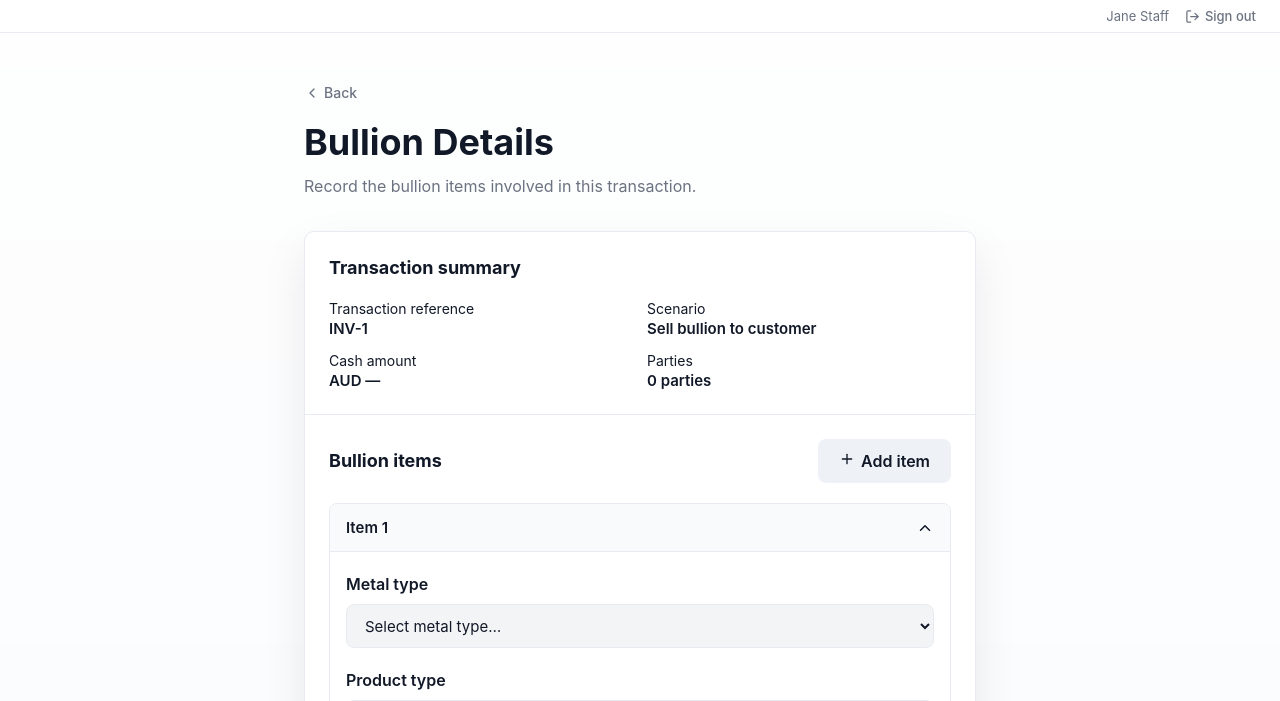
Test case: BullionDetailsPage › clicking Remove deletes the correct item when more than one exists
Expected: the text "Metal type" is shown, [346,574,428,594]
Click the button "Add item" at [884, 461], box [818,439,951,483]
(page scrolled)
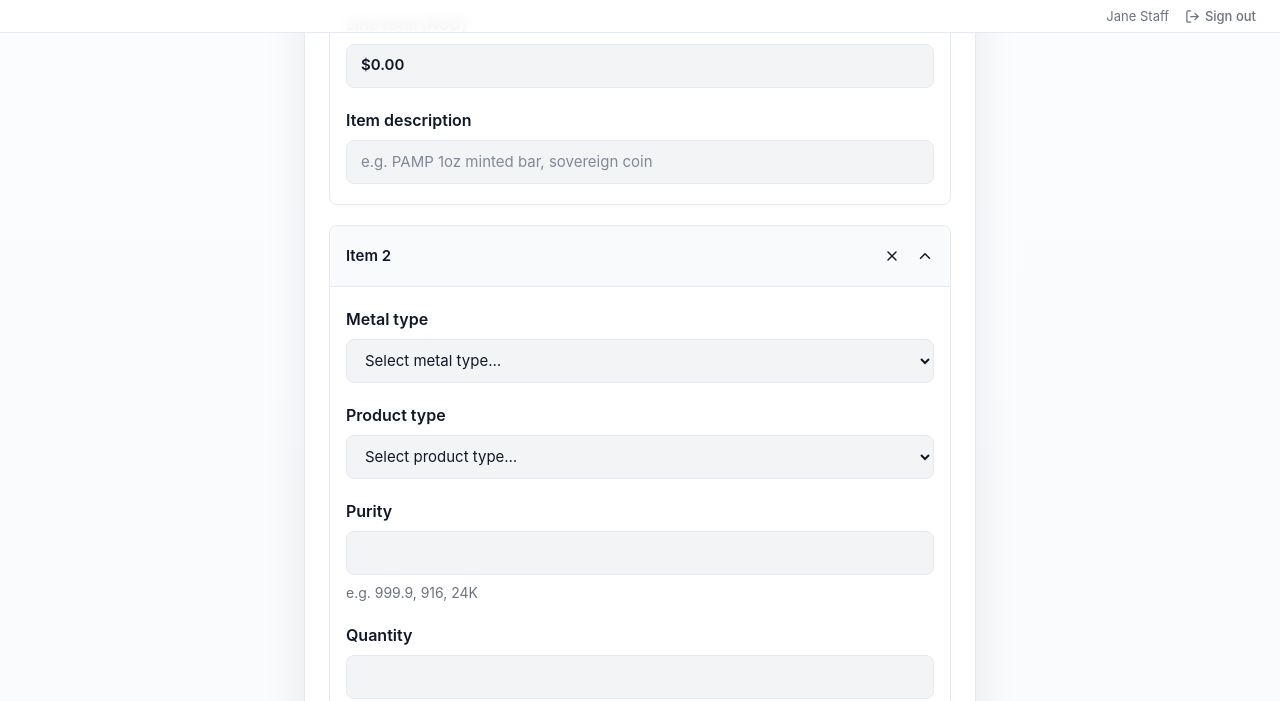
Select "Silver" in the 1st dropdown at [640, 361], box [346,339,934,383]
(page scrolled)
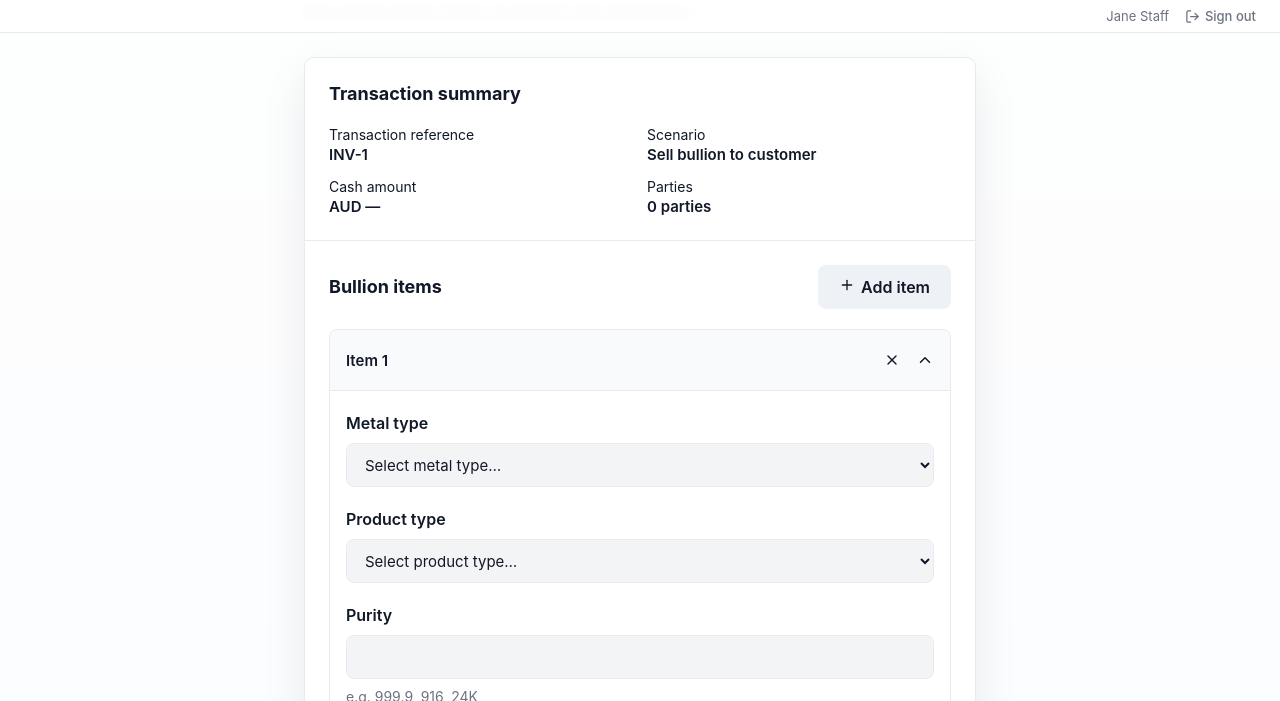
Click the button named "Remove item 1" at [892, 360], box [876,344,908,376]
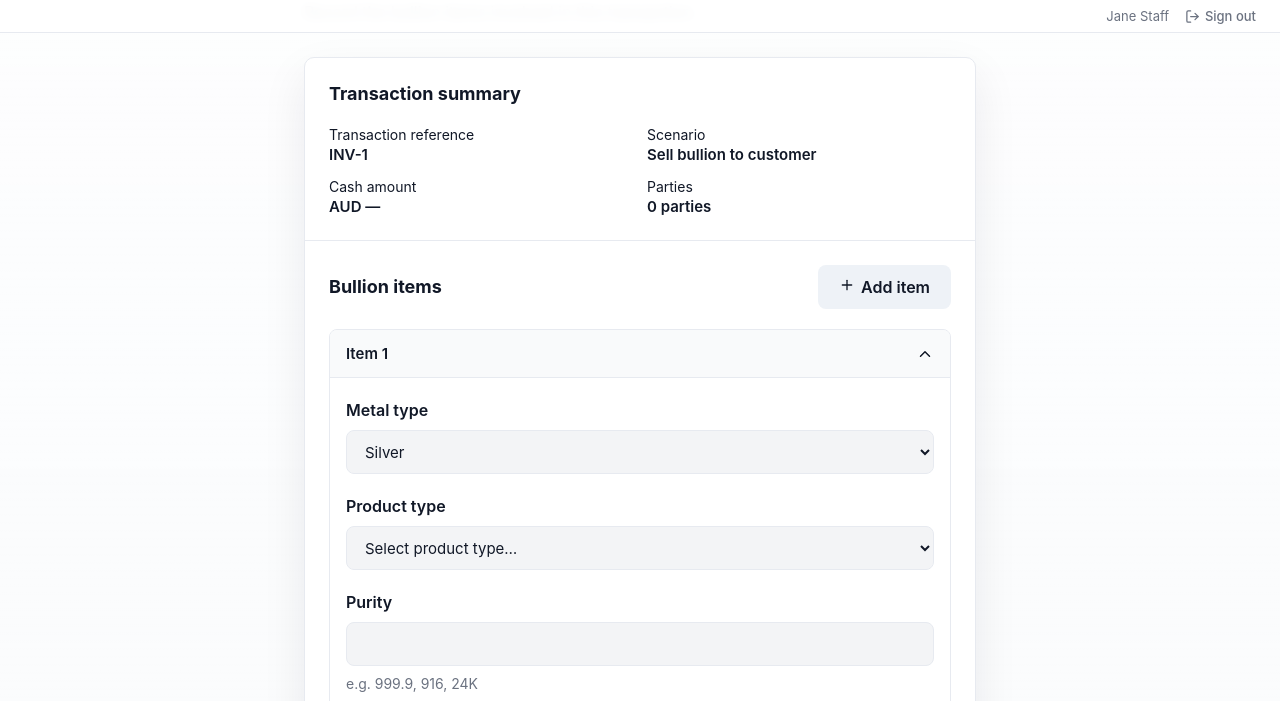
Expected: the text "Metal type" is shown once, [346,400,428,420]
